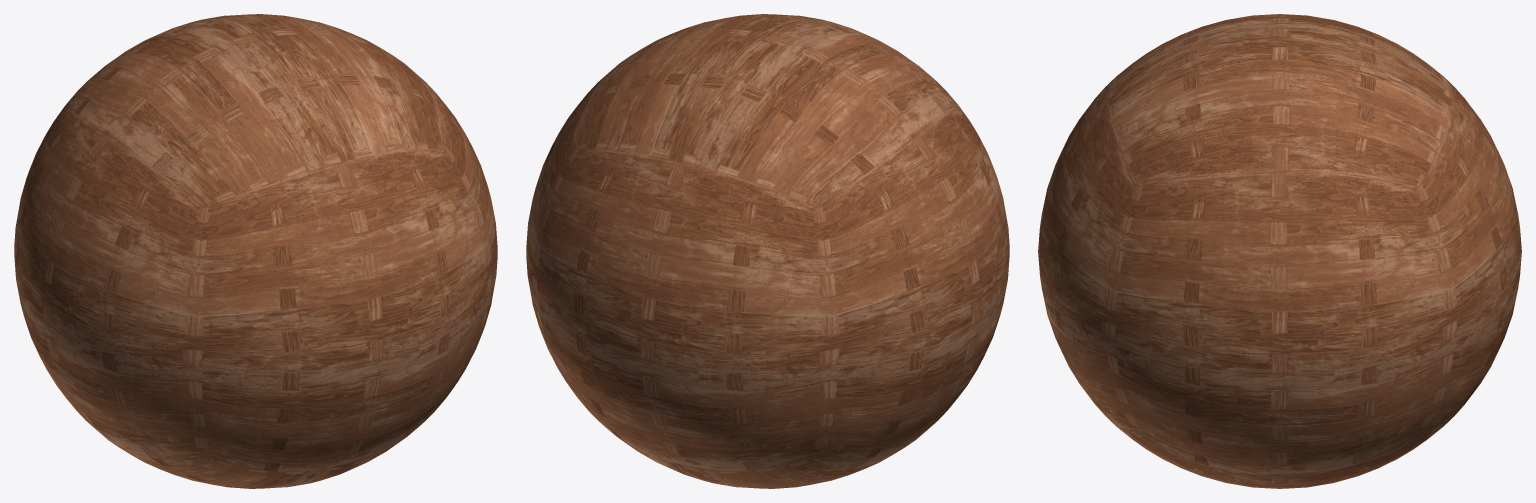
Rendered from ClearcoatWicker.glb.
3 renders of one model, left to right at view 1: azimuth 30°, elevation 25°; view 2: azimuth 150°, elevation 25°; view 3: azimuth 270°, elevation 25°, orthographic.
Visible parts, largest first — view 1: Sphere; view 2: Sphere; view 3: Sphere.
Boxes of the visible parts, x1,y1,x2,y2 form: Sphere: (14, 14, 497, 488); Sphere: (526, 14, 1009, 488); Sphere: (1038, 14, 1521, 488).
Bounding box in the file's own units: 1 × 0.9803 × 1.
1 material, 1 textured.
